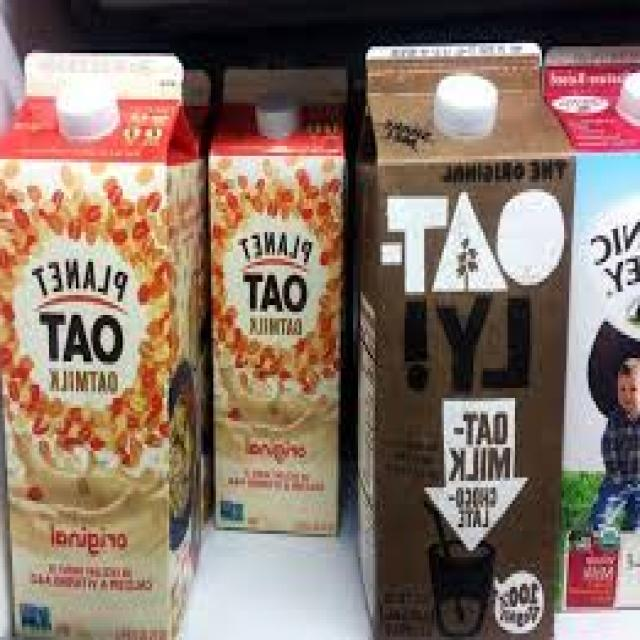cardboard: (358, 36, 571, 640), (2, 43, 204, 640), (208, 57, 351, 536), (535, 36, 640, 613)
